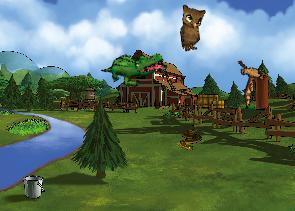crocodile: (100, 37, 169, 98)
eagle: (224, 51, 277, 109)
owl: (177, 2, 210, 52)
